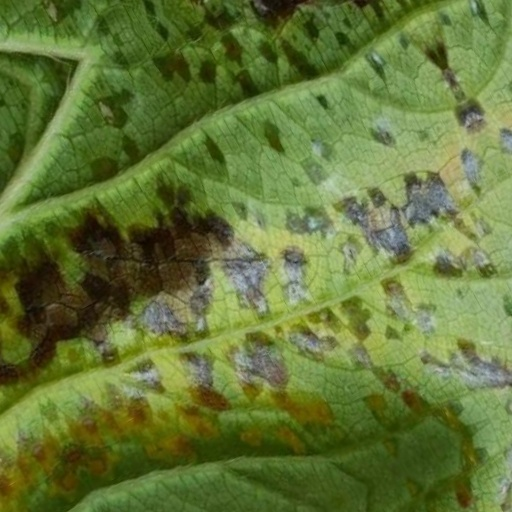Angular Leafspot: (0, 0, 511, 511)
